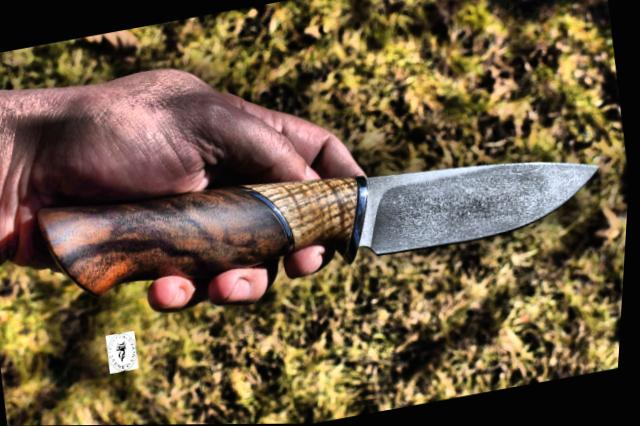knife: (119, 64, 626, 318)
